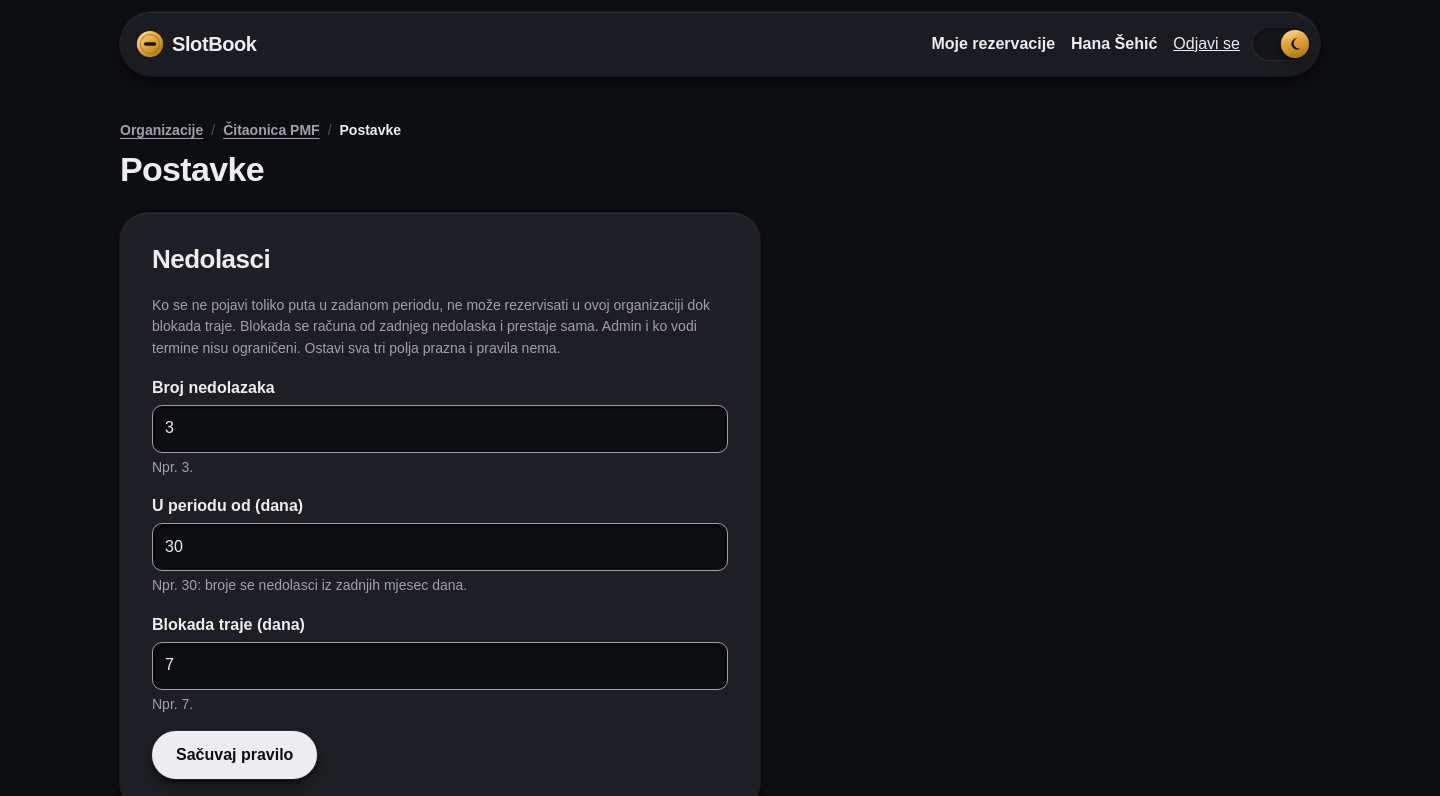
Test: admin postavi pravilo nedolazaka, a polja se popune iz organizacije
The width and height of the screenshot is (1440, 796).
expect the number field labelled "Broj nedolazaka" holds "3": met, box 152,404 -> 728,452
Replace the text in the number field labelled "Blokada traje (dana)" with "14" at (440, 666), box 152,642 -> 728,690
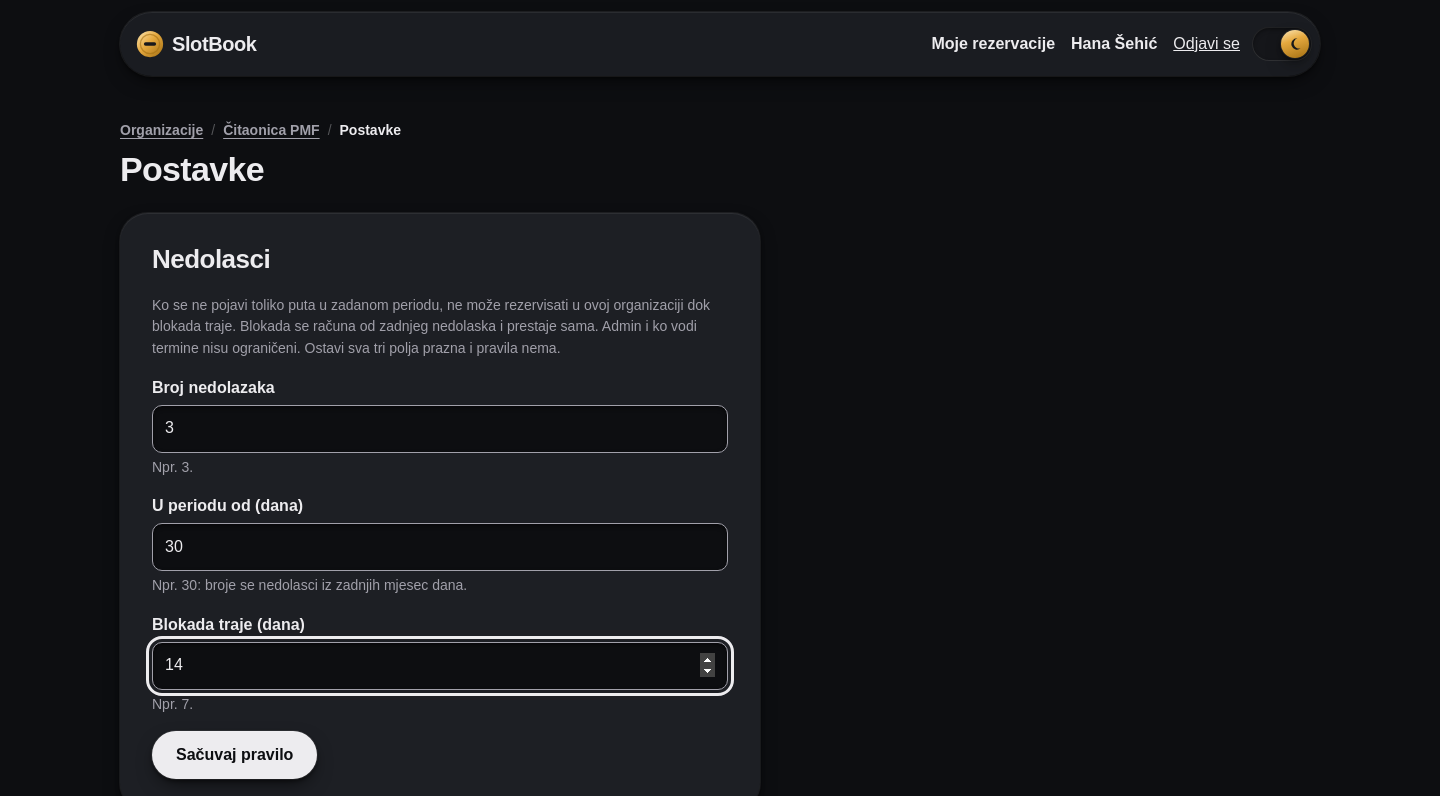
Click the button "Sačuvaj pravilo" at (235, 755), box 152,731 -> 317,779
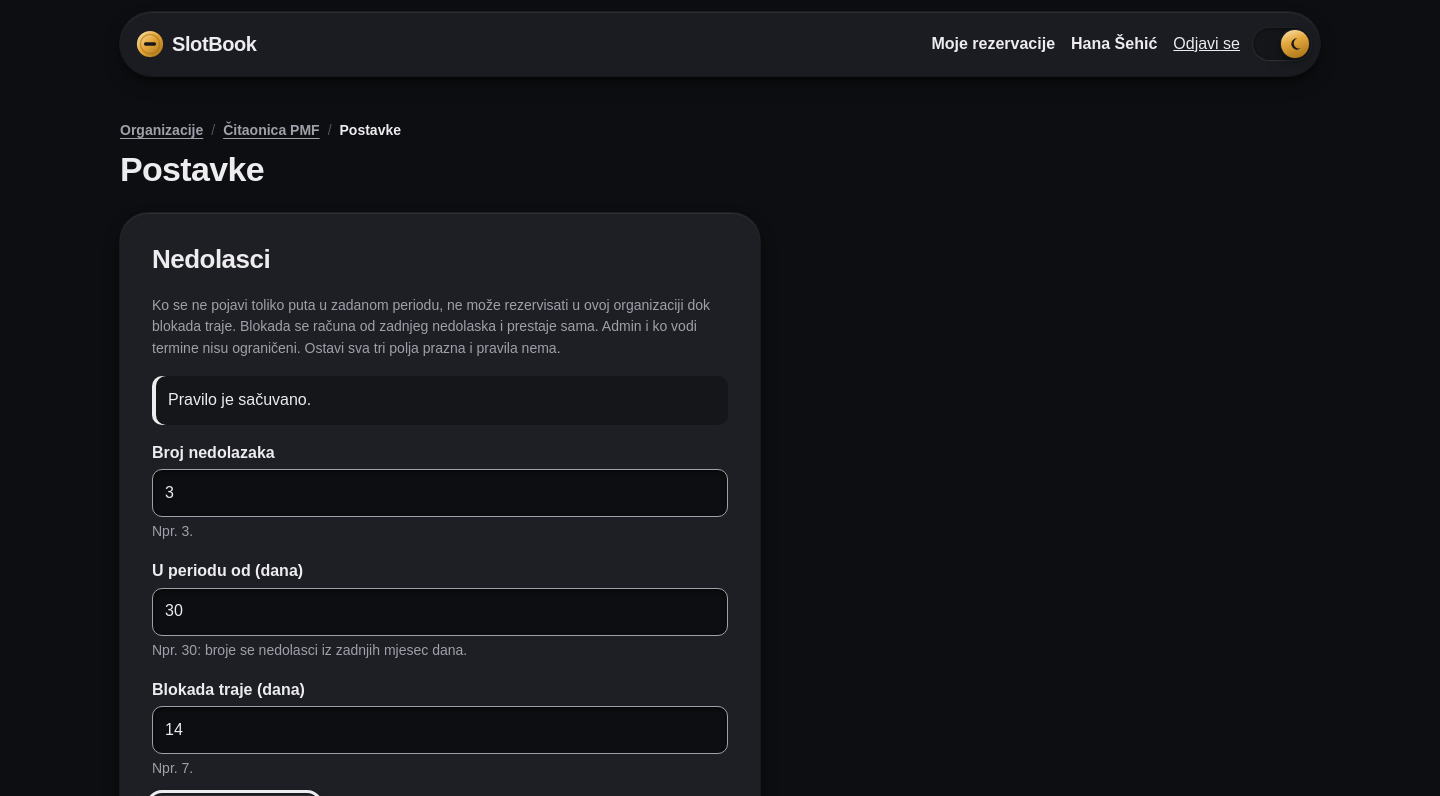
expect the text "Pravilo je sačuvano." is shown: met, box 152,376 -> 728,424
